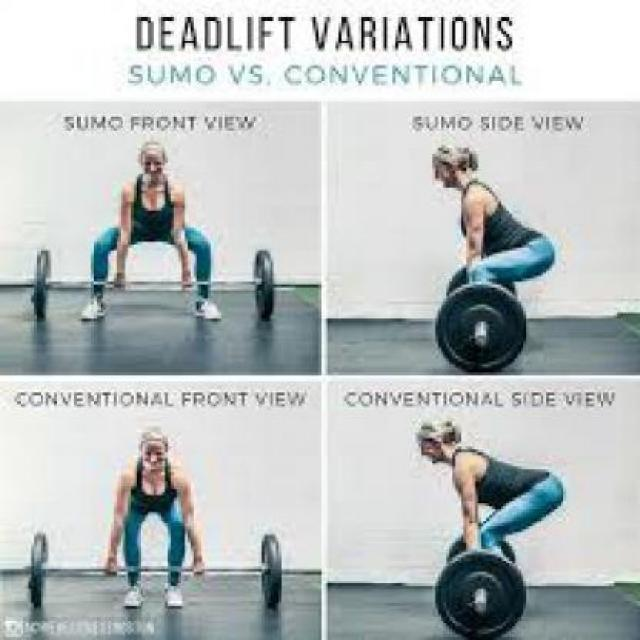Barbell: (470, 597, 492, 617), (472, 332, 490, 348)
